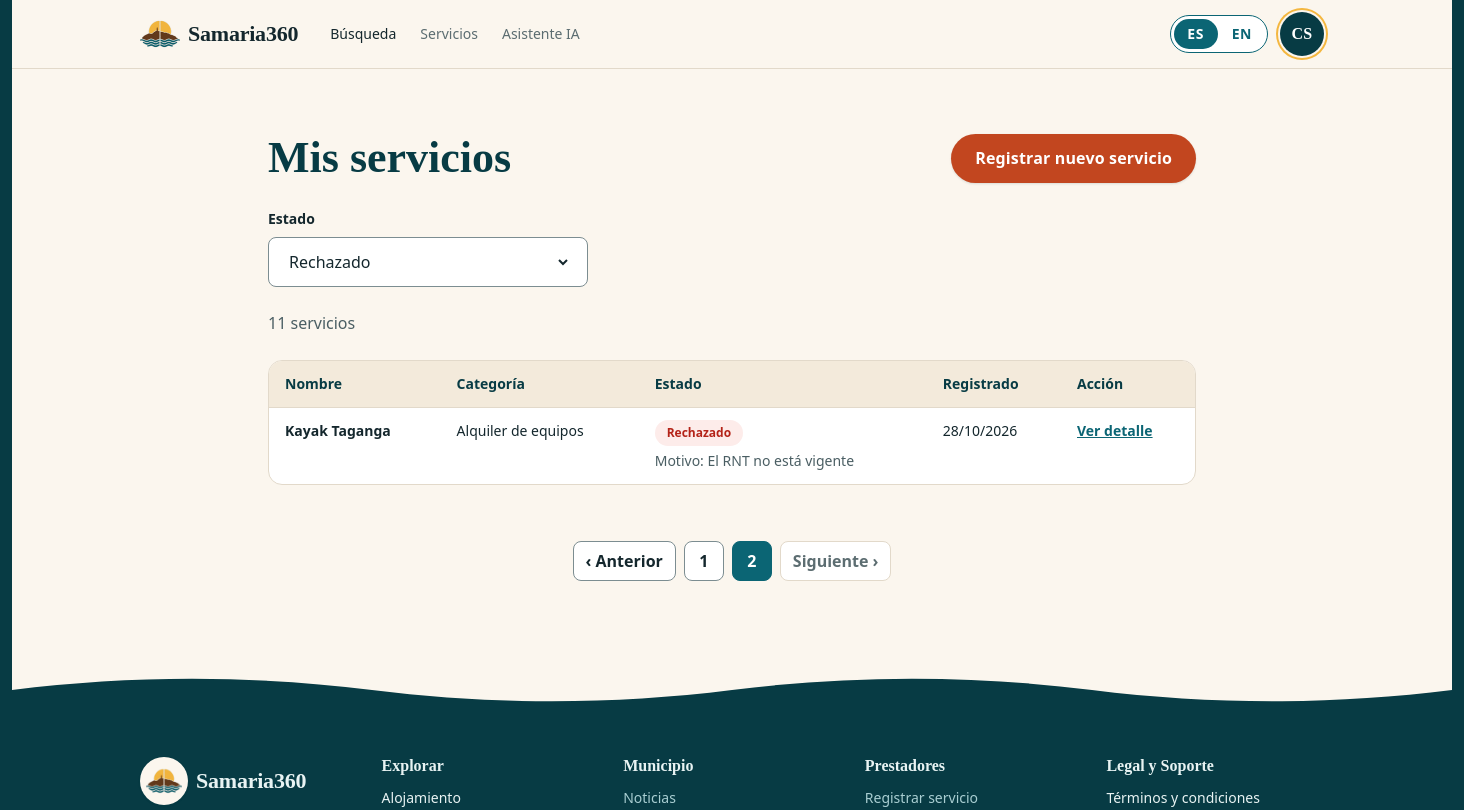
Test: WF-18 «Mis servicios» (DEC-169) › el filtro y la página van en la URL; la API recibe la página desde 0
Check: the text "Rechazado" is shown, box [655, 420, 743, 446]
Check: the text "Motivo: El RNT no está vigente" is shown, box [655, 451, 854, 470]
Click the button named "Página 1" at (704, 561), box [684, 541, 724, 581]
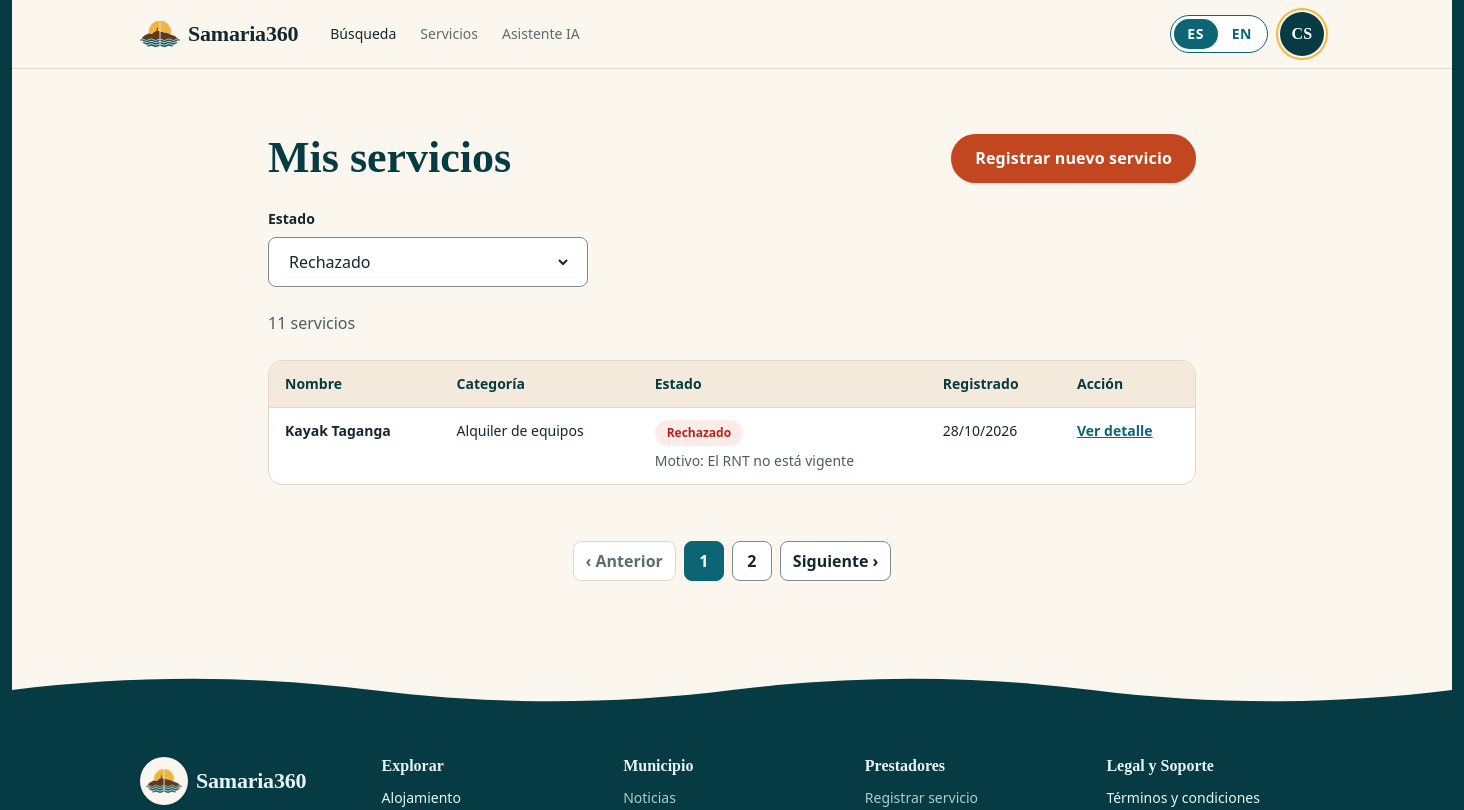
Select "Publicado" in the dropdown labelled "Estado" at (428, 262), box [285, 238, 571, 286]
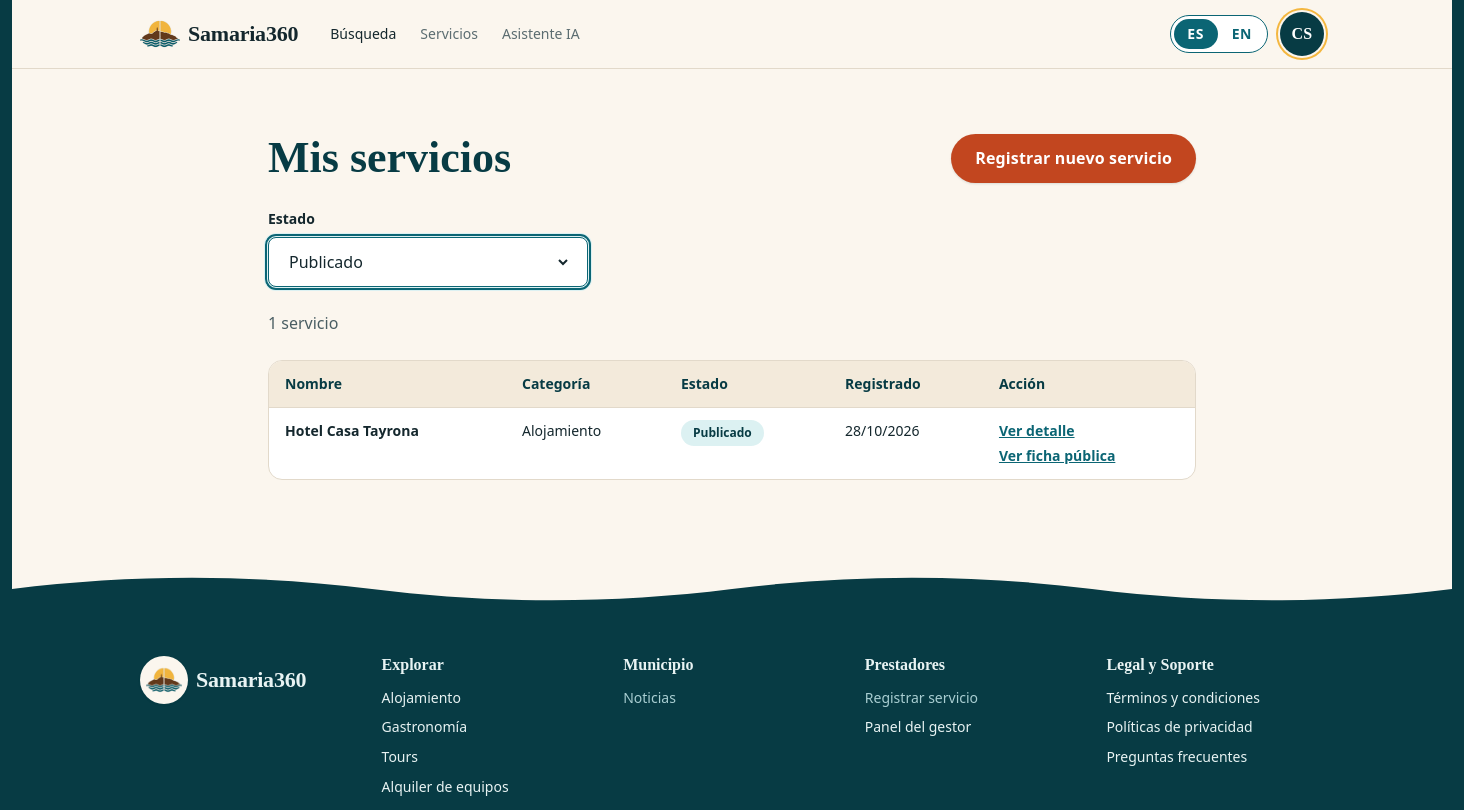
Check: the text "Publicado" is shown, box [681, 420, 764, 446]
